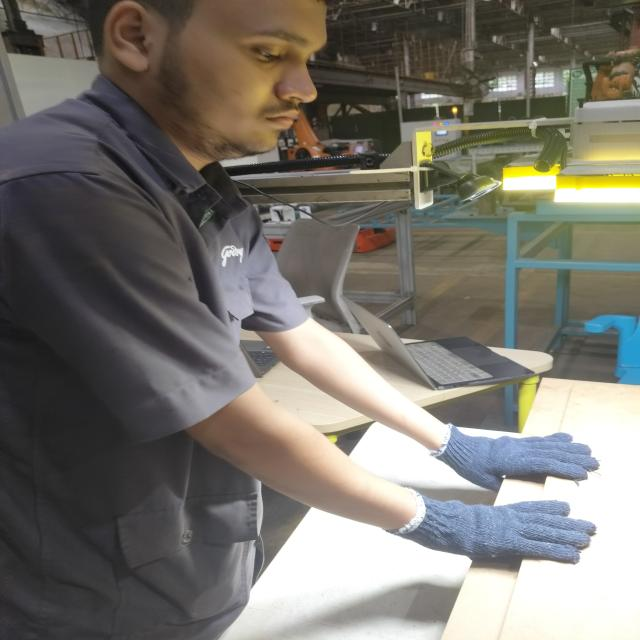Gloves-Detection: (405, 480, 591, 570), (442, 426, 592, 486)
